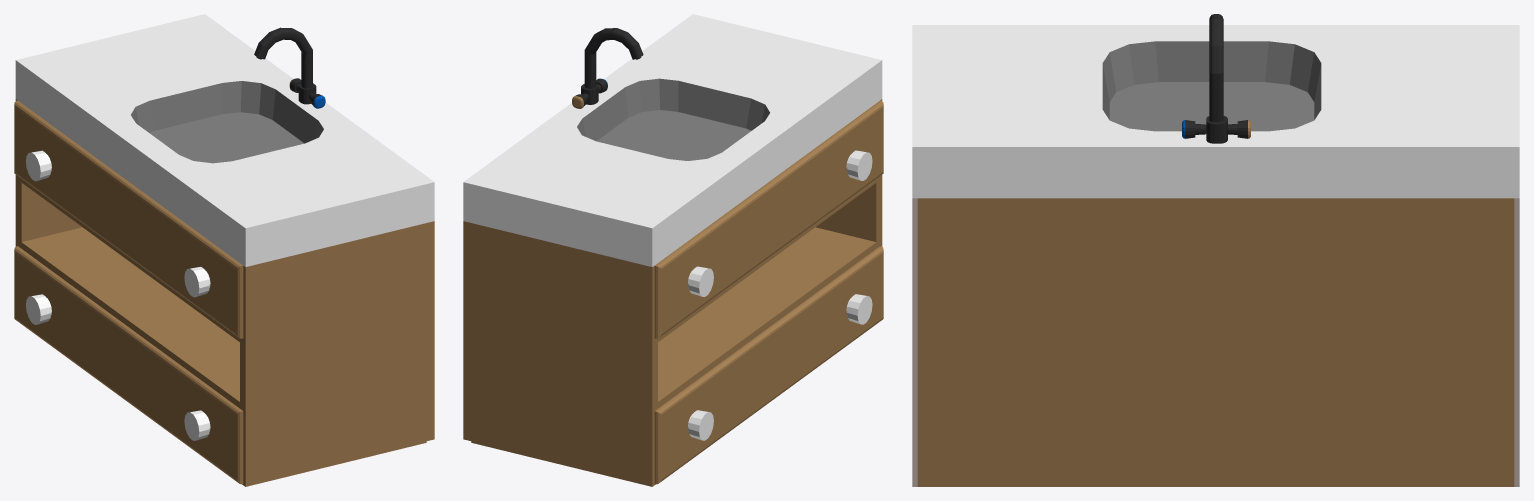
The model's file is Wardrobe_1.fbx.
3 views of the same model, side by side, from view 1: azimuth 30°, elevation 25°; view 2: azimuth 150°, elevation 25°; view 3: azimuth 270°, elevation 25° (orthographic). The views are drawn at different scales.
Visible parts, largest first — view 1: Wardrobe_1, Wardrobe_1 Door_1, Wardrobe_1 Door_2; view 2: Wardrobe_1, Wardrobe_1 Door_1, Wardrobe_1 Door_2; view 3: Wardrobe_1.
Part boxes in pixels (x1,y1,x2,y2): Wardrobe_1: [15, 14, 434, 486]; Wardrobe_1 Door_1: [14, 100, 243, 338]; Wardrobe_1 Door_2: [14, 246, 243, 484]; Wardrobe_1: [463, 14, 882, 486]; Wardrobe_1 Door_1: [654, 100, 883, 338]; Wardrobe_1 Door_2: [654, 246, 883, 484]; Wardrobe_1: [912, 14, 1519, 486].
Size of the model in its own units: 0.7043 by 1.09 by 1.35.
